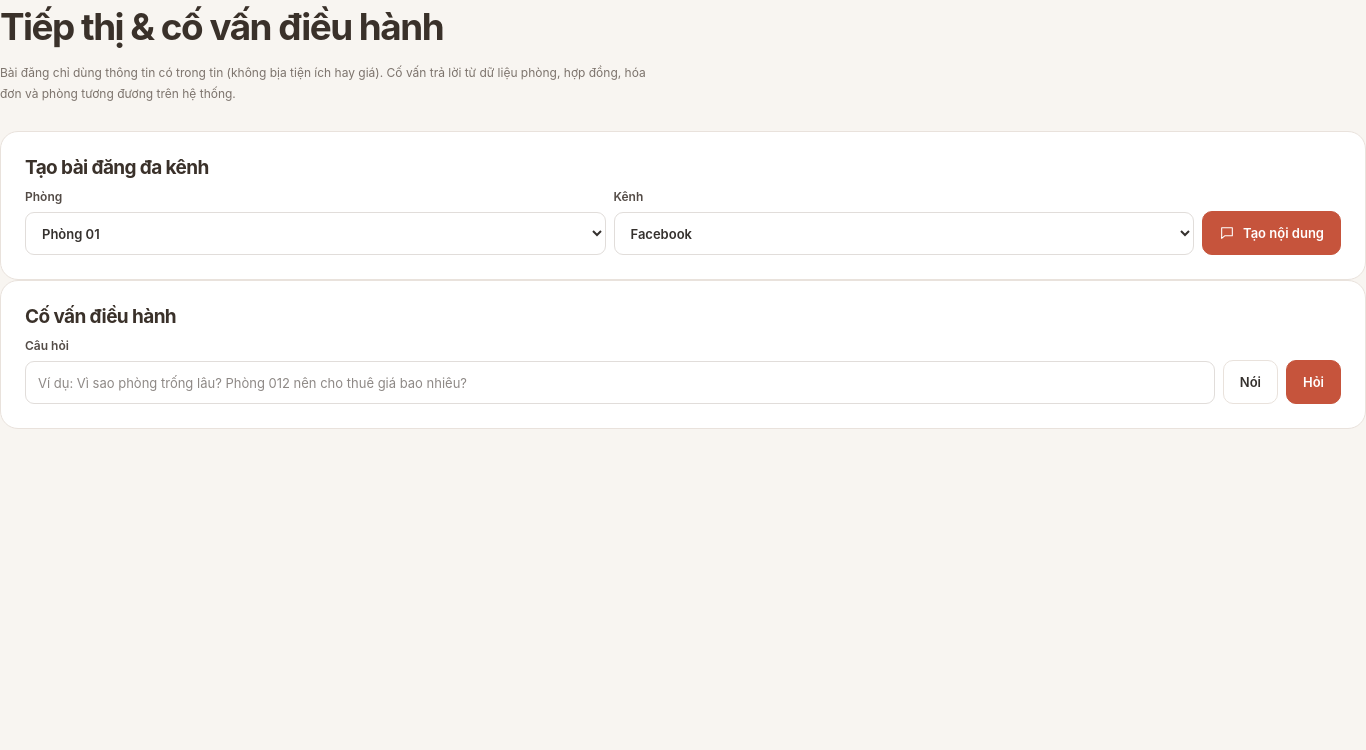
Test case: generates a channel post with a share link and answers advisory questions
This screenshot has width=1366, height=750.
Click the button "Tạo nội dung". click: x=1272, y=233
box: [1202,211,1341,255]
(page scrolled)
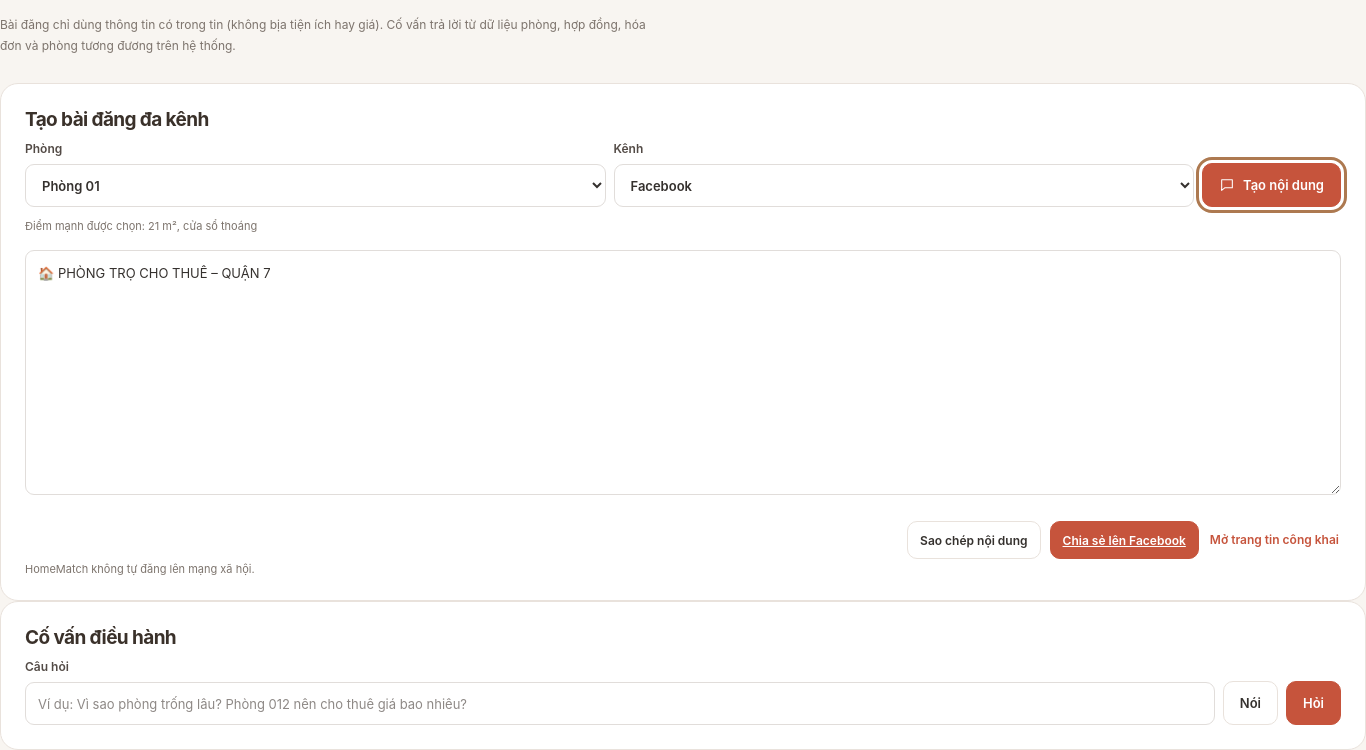
Now the text box showing "PHÒNG TRỌ CHO THUÊ" is shown, box [25,250,1341,495]
Type "Vì sao phòng trống lâu?" into the field labelled "Câu hỏi". click: x=620, y=704
box: [25,682,1215,725]
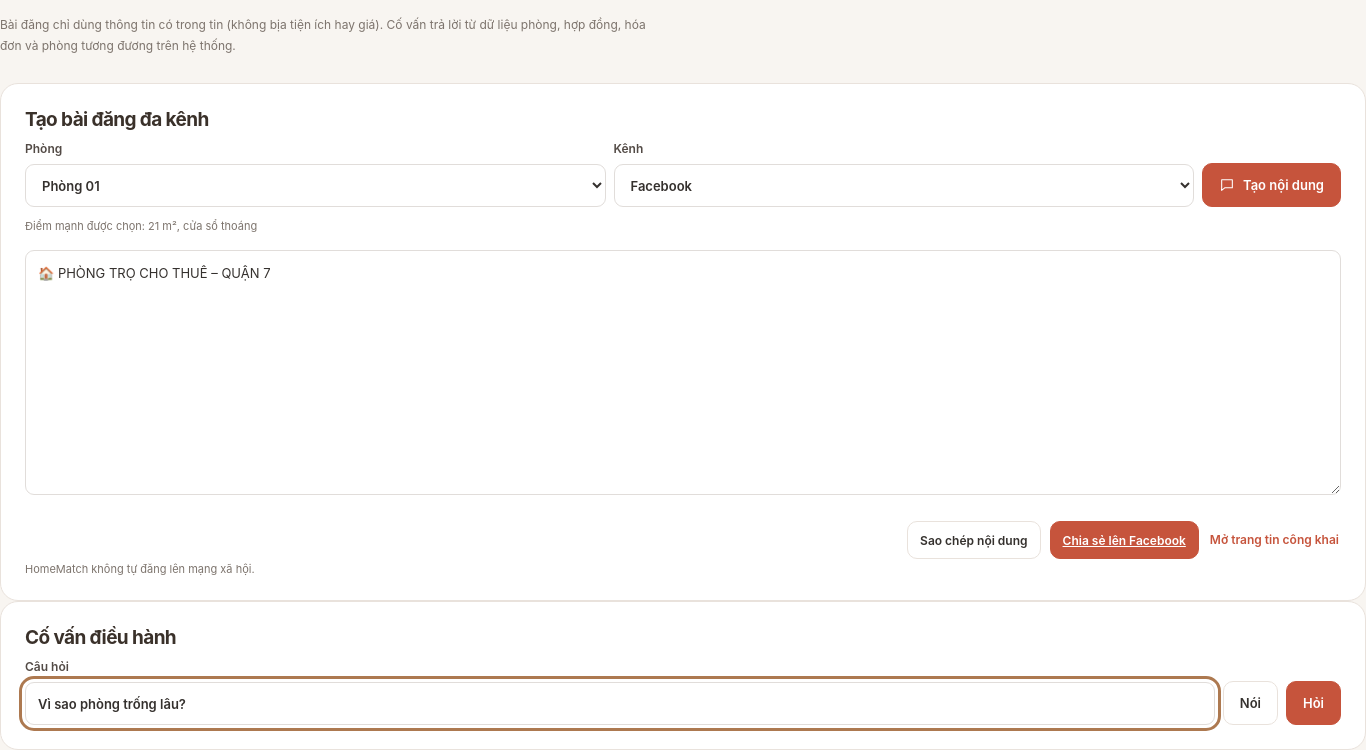
Click the button "Hỏi". click: x=1314, y=703
box: [1286,681,1341,725]
(page scrolled)
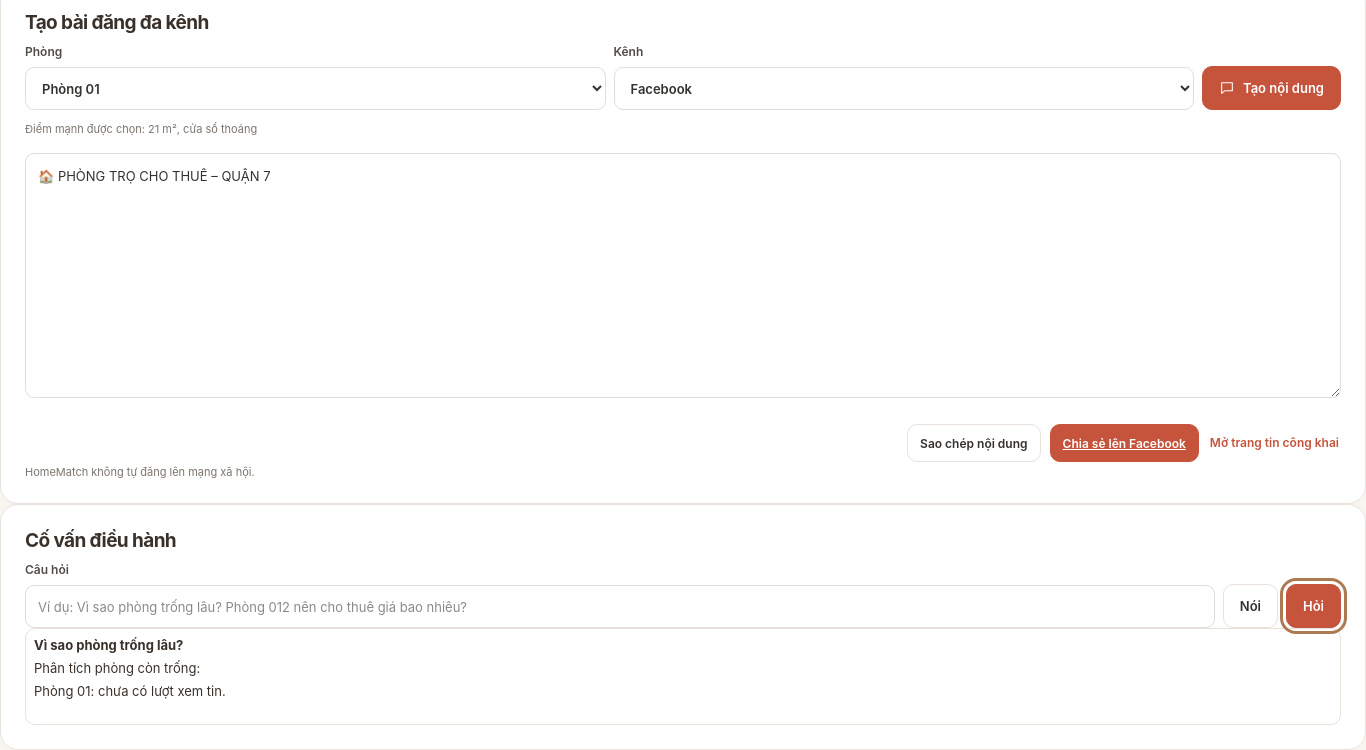
Now the text "Phân tích phòng còn trống: Phòng 01: chưa có lượt xem tin." is shown, box [34,660,226,699]
